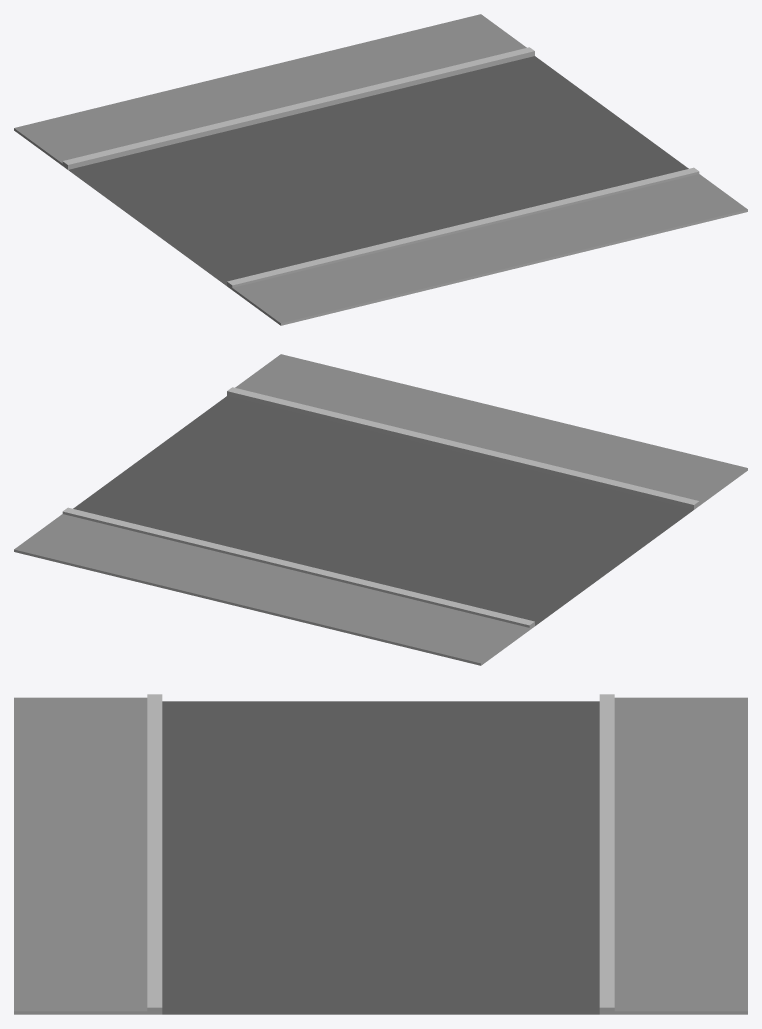
The model's file is street_3x20.fbx.
The picture shows the model from 3 angles, top to bottom: view 1: azimuth 30°, elevation 25°; view 2: azimuth 150°, elevation 25°; view 3: azimuth 270°, elevation 25°; orthographic projection. The views are drawn at different scales.
Visible parts, largest first — view 1: street_3x20; view 2: street_3x20; view 3: street_3x20.
Part boxes in pixels (bbox=[...]): street_3x20: bbox=[14, 14, 747, 325]; street_3x20: bbox=[14, 354, 747, 665]; street_3x20: bbox=[14, 694, 747, 1014].
Bounding box in the file's own units: 20 × 0.2 × 19.8.
